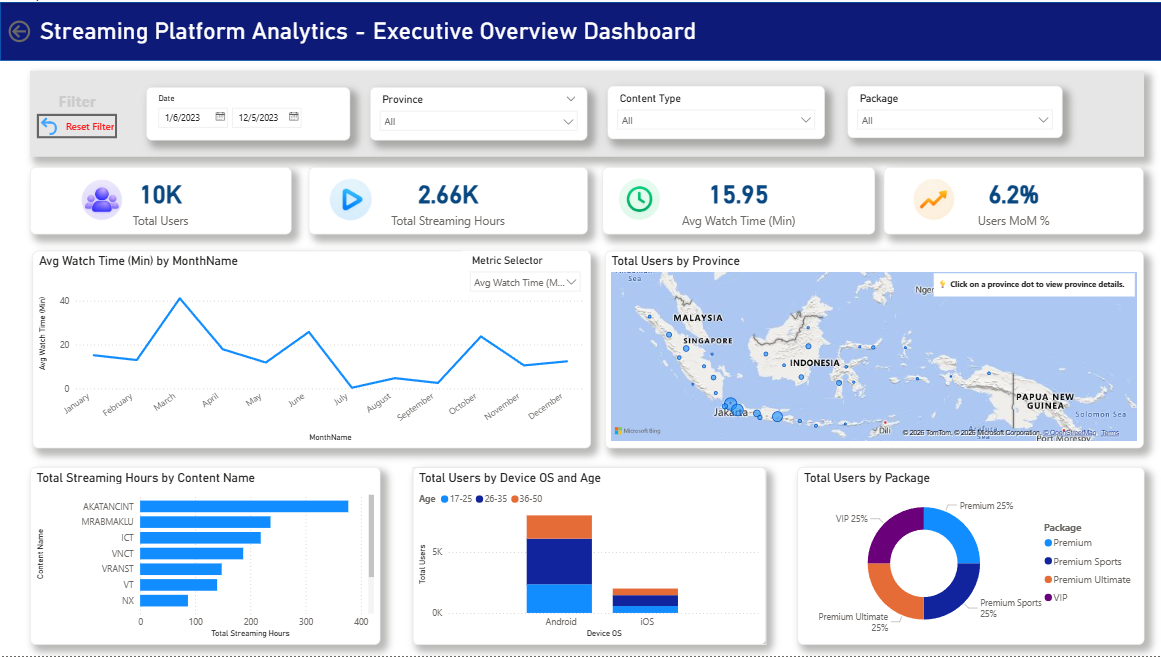

The page's visual inventory and layout, read from the dashboard file:
{"tool":"powerbi","page":{"name":"Dashboard","canvas":[1600,900],"ordinal":0},"visuals":[{"type":"shape","box":[0,0,1600.3,80.9],"z":0},{"type":"shape","box":[41.3,94.6,1533.2,118.7],"z":1000},{"type":"textbox","title":"Streaming Platform Analytics - Executive Overview Dashboard","box":[49.9,20.6,1032.5,74],"z":2000},{"type":"card","fields":{"Values":["Fact_Streaming.Total Users"]},"box":[41.3,227.1,359.6,92.9],"z":3000},{"type":"card","fields":{"Values":["Fact_Streaming.Total Streaming Hours"]},"box":[425,227.1,383.7,92.9],"z":4000},{"type":"card","fields":{"Values":["Fact_Streaming.Avg Watch Time (Min)"]},"box":[829.4,227.8,375.1,92.9],"z":5000},{"type":"card","fields":{"Values":["Fact_Streaming.Users MoM %"]},"box":[1216.6,227.8,357.9,92.9],"z":6000},{"type":"lineChart","fields":{"Y":["Fact_Streaming.Avg Watch Time (Min)"],"Category":["Dim_Calendar.MonthName"]},"box":[44.7,343.2,768.7,271.7],"z":7000},{"type":"map","fields":{"Size":["Fact_Streaming.Total Users"],"Category":["Fact_Streaming.Province"]},"box":[833.1,343.2,741.9,271.7],"z":8000},{"type":"clusteredBarChart","fields":{"Category":["Fact_Streaming.Content Name"],"Y":["Fact_Streaming.Total Streaming Hours"]},"box":[41.1,640,482.7,244.9],"z":9000},{"type":"donutChart","fields":{"Category":["Fact_Streaming.Package"],"Y":["Fact_Streaming.Total Users"]},"box":[1097.7,640,477.3,244.9],"z":10000},{"type":"columnChart","fields":{"Y":["Fact_Streaming.Total Users"],"Series":["Fact_Streaming.Age"],"Category":["Fact_Streaming.Device OS"]},"box":[568.5,640,486.3,244.9],"z":11000},{"type":"actionButton","box":[6.9,20.6,99.8,39.6],"z":12000},{"type":"slicer","fields":{"Values":["Dim_Calendar.Date"]},"box":[201.7,116.3,280.5,74],"z":13000},{"type":"slicer","fields":{"Values":["Fact_Streaming.Province"]},"box":[509.7,116.3,299.4,74],"z":14000},{"type":"slicer","fields":{"Values":["Fact_Streaming.Content Type"]},"box":[836.7,114.6,299.4,74],"z":15000},{"type":"slicer","fields":{"Values":["Fact_Streaming.Package"]},"box":[1167.1,114.6,296,72.3],"z":16000},{"type":"textbox","box":[67.9,116.2,78.7,53.6],"z":17000},{"type":"slicer","fields":{"Values":["Metric Selector.Metric Selector"]},"box":[636.7,342.4,172.1,61.9],"z":18000},{"type":"actionButton","box":[50.1,153.7,112.6,35.8],"z":19000},{"type":"textbox","box":[1285.4,373.6,277.1,32.2],"z":20000},{"type":"image","box":[106.7,242.6,67.1,60.2],"z":21000},{"type":"image","box":[433.6,242.6,98.1,58.5],"z":22000},{"type":"image","box":[832.9,242.6,98.1,58.5],"z":23000},{"type":"image","box":[1239,242.6,98.1,58.5],"z":24000}]}

Visuals, with their boxes in screenshot pixels (x1, y1, x2, y2), scaled from the page's 1600x900 canvas onto the 1161x657 screenshot:
shape: [left=0, top=0, right=1160, bottom=59]
shape: [left=30, top=69, right=1142, bottom=156]
"Streaming Platform Analytics - Executive Overview Dashboard" textbox: [left=36, top=15, right=785, bottom=69]
card - Fact_Streaming.Total Users: [left=30, top=166, right=291, bottom=234]
card - Fact_Streaming.Total Streaming Hours: [left=308, top=166, right=587, bottom=234]
card - Fact_Streaming.Avg Watch Time (Min): [left=602, top=166, right=874, bottom=234]
card - Fact_Streaming.Users MoM %: [left=883, top=166, right=1142, bottom=234]
lineChart - Fact_Streaming.Avg Watch Time (Min) x Dim_Calendar.MonthName: [left=32, top=251, right=590, bottom=449]
map - Fact_Streaming.Total Users x Fact_Streaming.Province: [left=605, top=251, right=1143, bottom=449]
clusteredBarChart - Fact_Streaming.Content Name x Fact_Streaming.Total Streaming Hours: [left=30, top=467, right=380, bottom=646]
donutChart - Fact_Streaming.Package x Fact_Streaming.Total Users: [left=797, top=467, right=1143, bottom=646]
columnChart - Fact_Streaming.Total Users x Fact_Streaming.Age: [left=413, top=467, right=765, bottom=646]
actionButton: [left=5, top=15, right=77, bottom=44]
slicer - Dim_Calendar.Date: [left=146, top=85, right=350, bottom=139]
slicer - Fact_Streaming.Province: [left=370, top=85, right=587, bottom=139]
slicer - Fact_Streaming.Content Type: [left=607, top=84, right=824, bottom=138]
slicer - Fact_Streaming.Package: [left=847, top=84, right=1062, bottom=136]
textbox: [left=49, top=85, right=106, bottom=124]
slicer - Metric Selector.Metric Selector: [left=462, top=250, right=587, bottom=295]
actionButton: [left=36, top=112, right=118, bottom=138]
textbox: [left=933, top=273, right=1134, bottom=296]
image: [left=77, top=177, right=126, bottom=221]
image: [left=315, top=177, right=386, bottom=220]
image: [left=604, top=177, right=676, bottom=220]
image: [left=899, top=177, right=970, bottom=220]
